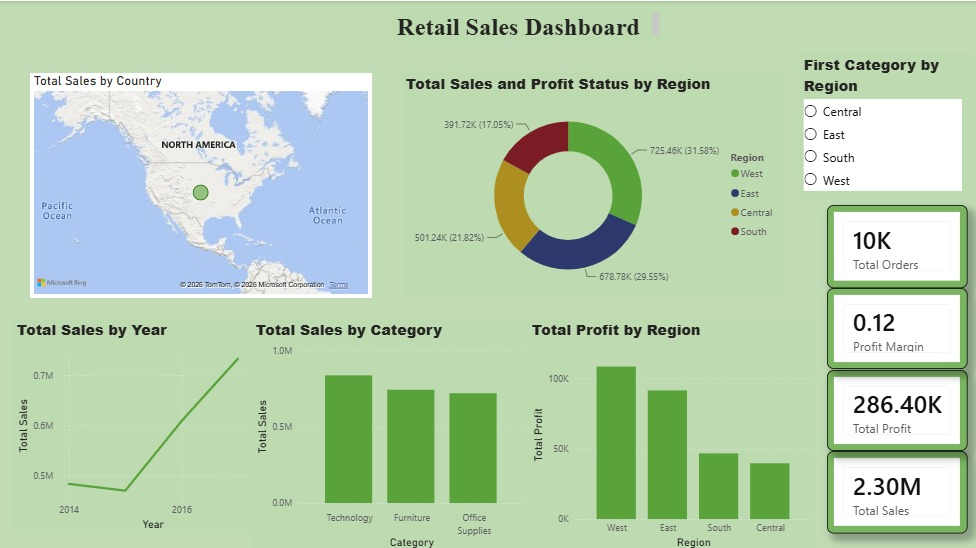

This screenshot's page, from the dashboard's own definition file:
{"tool":"powerbi","page":{"name":"Page 1","canvas":[1280,720],"ordinal":0},"visuals":[{"type":"lineChart","fields":{"Category":["Sample - Superstore.Order Date.Variation.Date Hierarchy.Year","Sample - Superstore.Order Date.Variation.Date Hierarchy.Quarter","Sample - Superstore.Order Date.Variation.Date Hierarchy.Month","Sample - Superstore.Order Date.Variation.Date Hierarchy.Day","Sample - Superstore.Order Date Hierarchy.Order Date"],"Y":["Sample - Superstore.Total Sales"]},"box":[20,416.2,312.5,281.2],"z":0},{"type":"lineClusteredColumnComboChart","fields":{"Category":["Sample - Superstore.Category"],"Y":["Sample - Superstore.Total Sales"]},"box":[332.5,416.2,361.2,305],"z":1000},{"type":"columnChart","fields":{"Category":["Sample - Superstore.Region"],"Y":["Sample - Superstore.Total Profit"]},"box":[693.8,416.2,376.2,305],"z":2000},{"type":"listSlicer","fields":{"Values":["Sample - Superstore.Region"]},"box":[1050,68.8,230,190],"z":3000},{"type":"cardVisual","fields":{"Data":["Sample - Superstore.Total Sales"]},"box":[1085,588.8,183.8,107.5],"z":4000},{"type":"cardVisual","fields":{"Data":["Sample - Superstore.Total Profit"]},"box":[1085,482.5,183.8,106.2],"z":5000},{"type":"cardVisual","fields":{"Data":["Sample - Superstore.Total Orders"]},"box":[1085,267.5,183.8,108.8],"z":6000},{"type":"cardVisual","fields":{"Data":["Sample - Superstore.Profit Margin"]},"box":[1085,376.2,183.8,106.2],"z":7000},{"type":"donutChart","fields":{"Category":["Sample - Superstore.Region"],"Y":["Sample - Superstore.Total Sales"]},"box":[528.8,93.8,500,293.8],"z":8000},{"type":"map","fields":{"Category":["Sample - Superstore.Country"],"Size":["Sample - Superstore.Total Sales"]},"box":[42,94.1,446.8,294],"z":9000},{"type":"textbox","box":[517.5,10,352.5,42.5],"z":9004}]}

Visuals, with their boxes in screenshot pixels (x1, y1, x2, y2), scaled from the page's 1280x720 canvas onto the 976x548 screenshot:
lineChart - Sample - Superstore.Order Date.Variation.Date Hierarchy.Year x Sample - Superstore.Order Date.Variation.Date Hierarchy.Quarter: [15, 317, 254, 531]
lineClusteredColumnComboChart - Sample - Superstore.Category x Sample - Superstore.Total Sales: [254, 317, 529, 547]
columnChart - Sample - Superstore.Region x Sample - Superstore.Total Profit: [529, 317, 816, 547]
listSlicer - Sample - Superstore.Region: [801, 52, 975, 197]
cardVisual - Sample - Superstore.Total Sales: [827, 448, 967, 530]
cardVisual - Sample - Superstore.Total Profit: [827, 367, 967, 448]
cardVisual - Sample - Superstore.Total Orders: [827, 204, 967, 286]
cardVisual - Sample - Superstore.Profit Margin: [827, 286, 967, 367]
donutChart - Sample - Superstore.Region x Sample - Superstore.Total Sales: [403, 71, 784, 295]
map - Sample - Superstore.Country x Sample - Superstore.Total Sales: [32, 72, 373, 295]
textbox: [395, 8, 663, 40]
